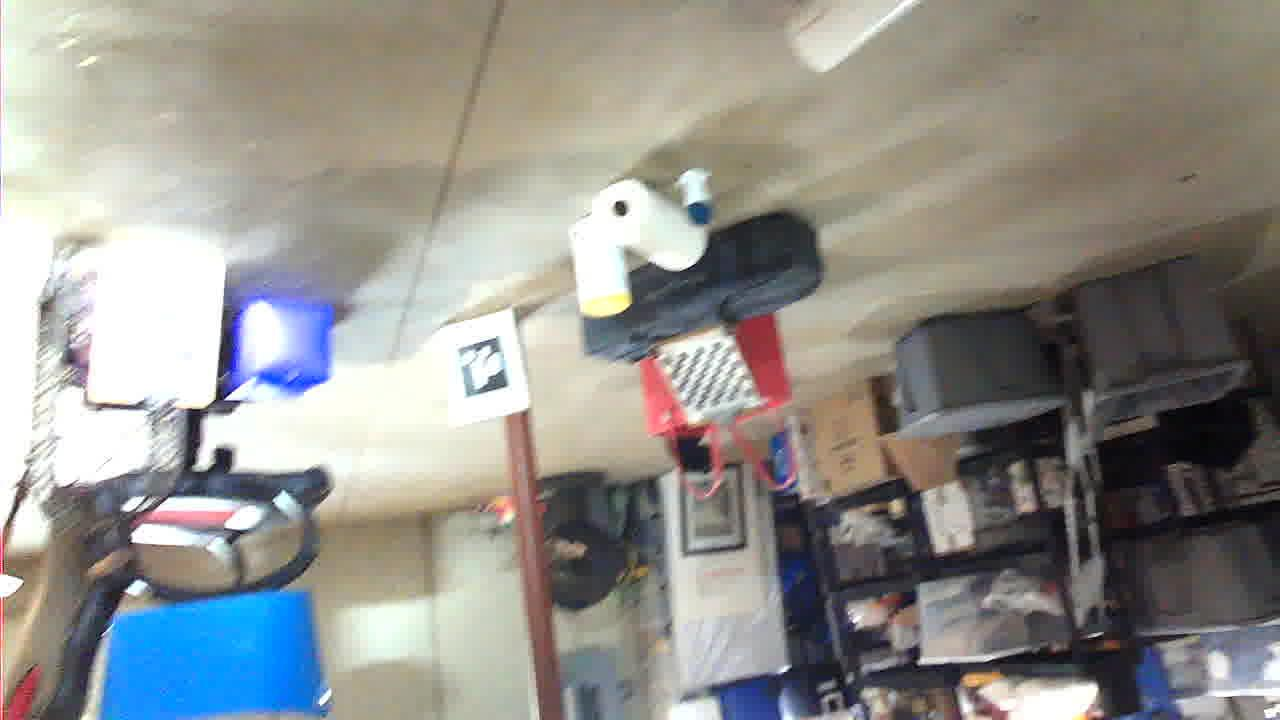coral: (350, 647, 497, 720)
